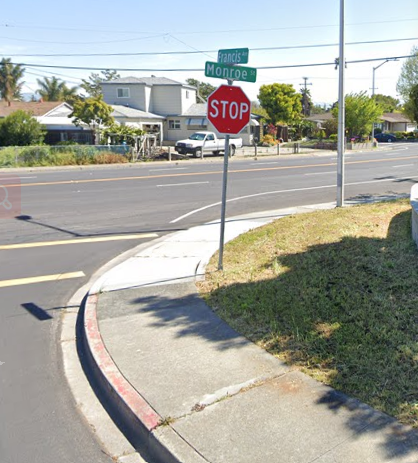stop_sign: (206, 85, 250, 135)
